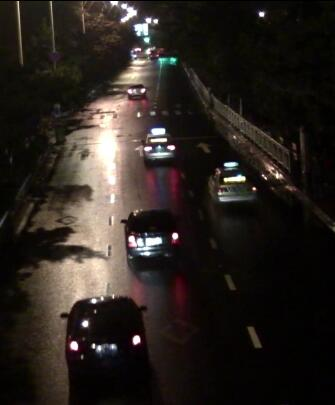car: (61, 295, 148, 370), (120, 206, 184, 269), (208, 161, 255, 207), (139, 126, 177, 163), (127, 81, 147, 99)
